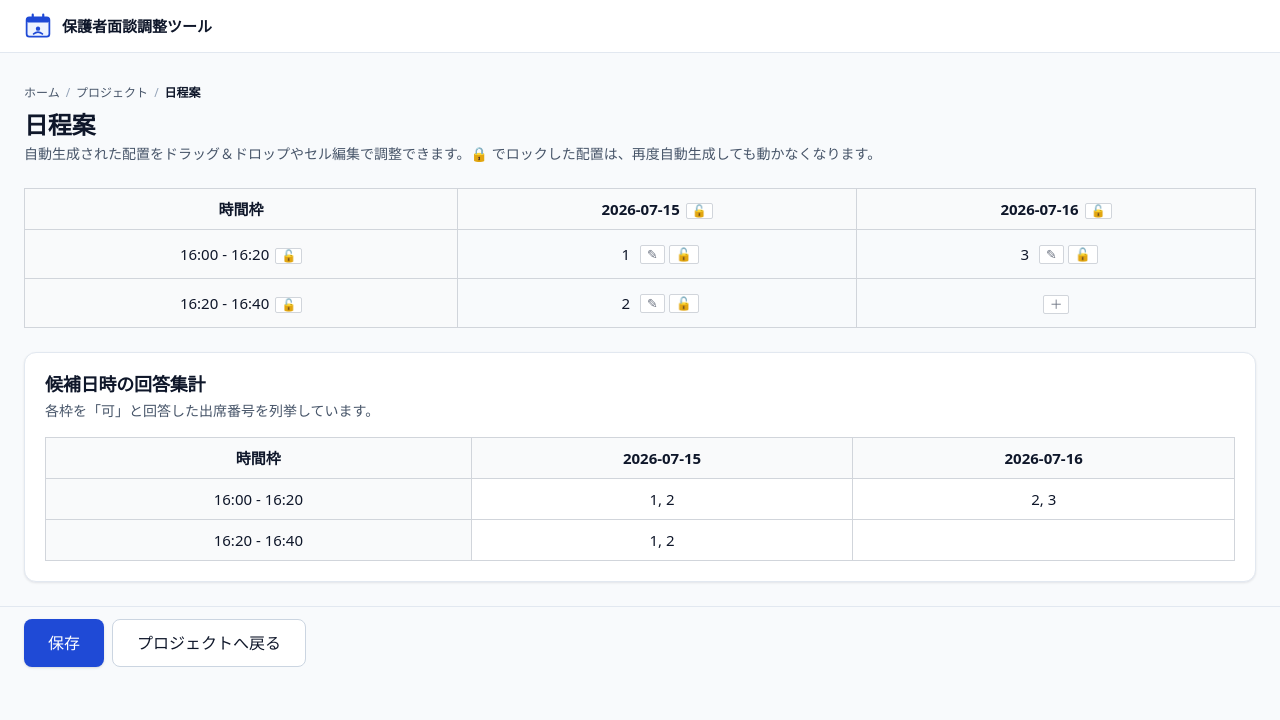
Scenario: 既存ドラフトとロックの挙動 › 列のロックボタンでその日付の全セルを一括ロックできる
The image size is (1280, 720).
Expected: the button with test id "draggable-student-1" is shown, x1=622 y1=244 x2=630 y2=264
Note: 2026-07-15 の列には生徒 1, 2 が配置されている
Click the button with test id "column-lock-button-2026-07-15".
click(699, 211)  # box x1=686 y1=203 x2=713 y2=219
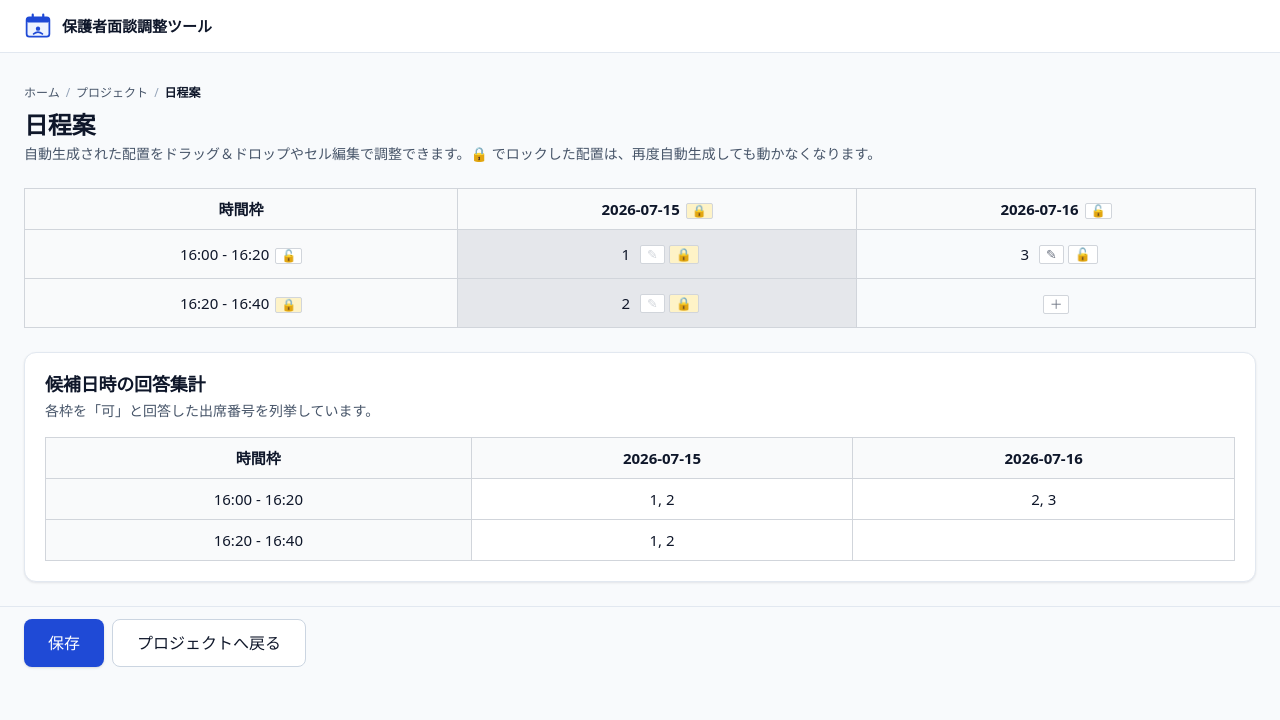
Result: the cell with test id "cell-locked-1" is shown at x1=458 y1=230 x2=857 y2=279
Result: the cell with test id "cell-locked-2" is shown at x1=458 y1=279 x2=857 y2=328
